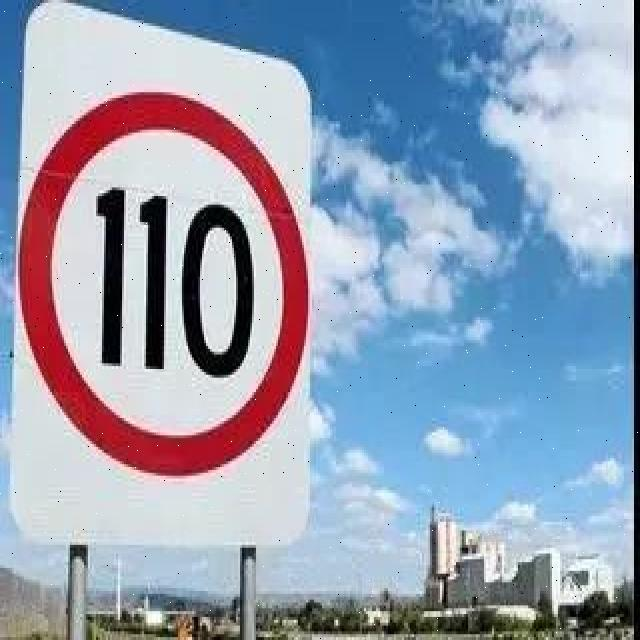speed limit 110: (17, 90, 309, 476)
